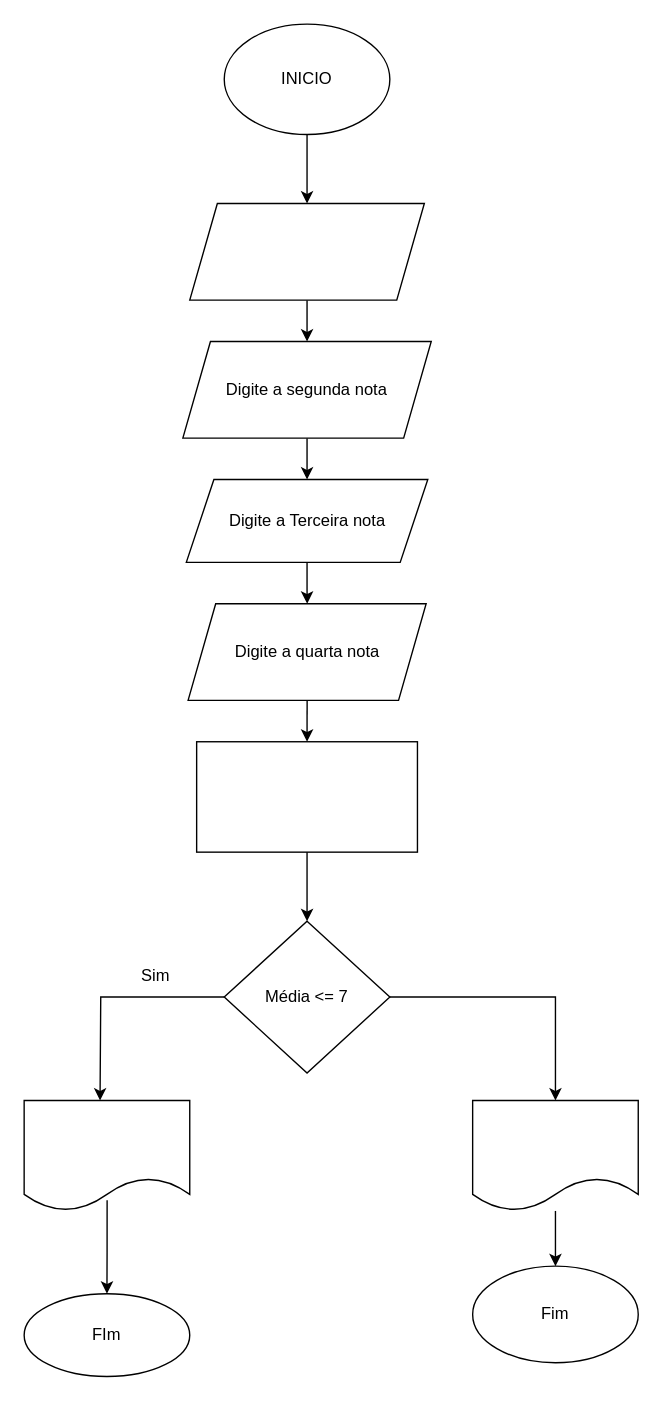
Some shapes in this 662 by 1401 pixel diagram are drawn without their labels. Each missing label, with the box of its shape:
Digite a primeira nota: (188, 202, 424, 300)
Imprima Aluno Aprovado: (23, 1099, 190, 1211)
Imprima Aluno reprovado: (471, 1099, 638, 1211)
Média = (n1 + n2 + n3 + n4)/4: (195, 740, 417, 852)
